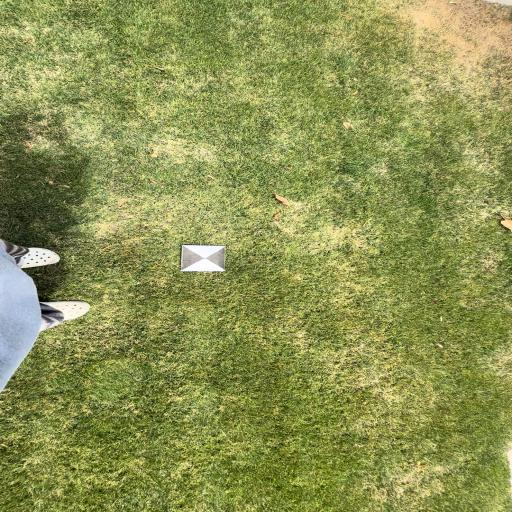target: (182, 245, 226, 271)
